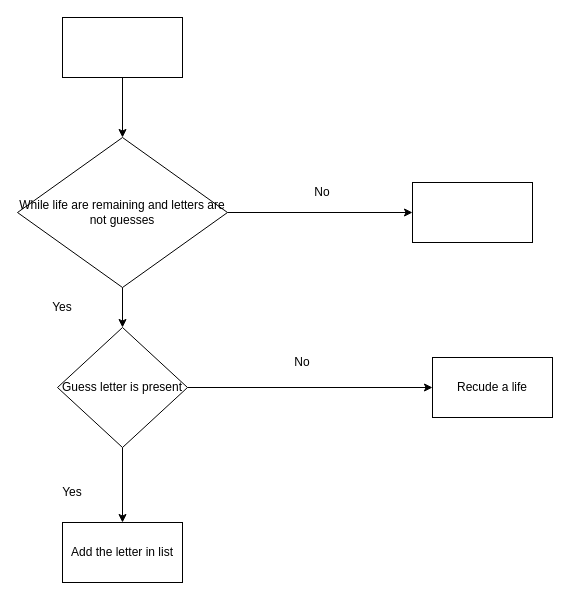
The diagram is 570 pixels wide and 600 high, and some of its shapes have lost their labels. The box of each missing label's shape, as (x1, y1, x2, y2) in pixels:
End Game: (412, 182, 532, 242)
Start: (62, 16, 182, 78)
